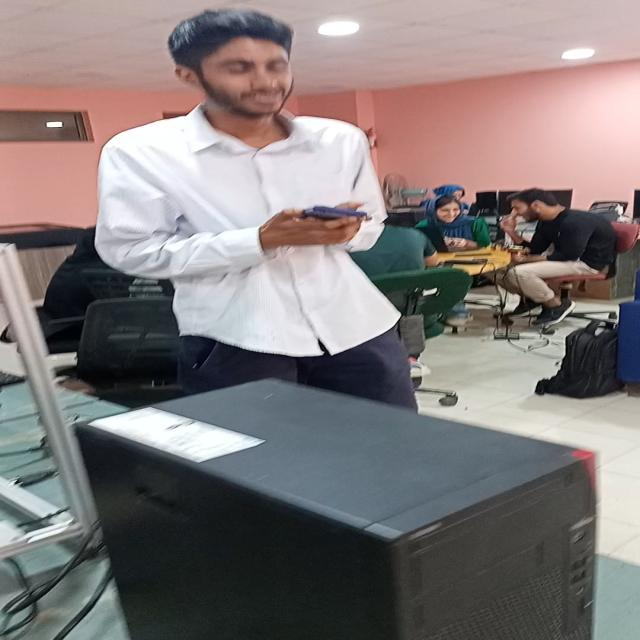dress: (95, 104, 432, 408)
